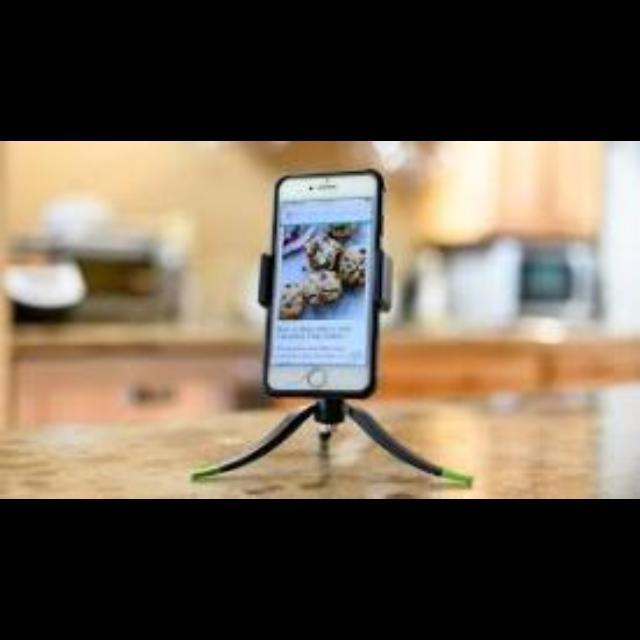phone: (261, 167, 383, 397)
